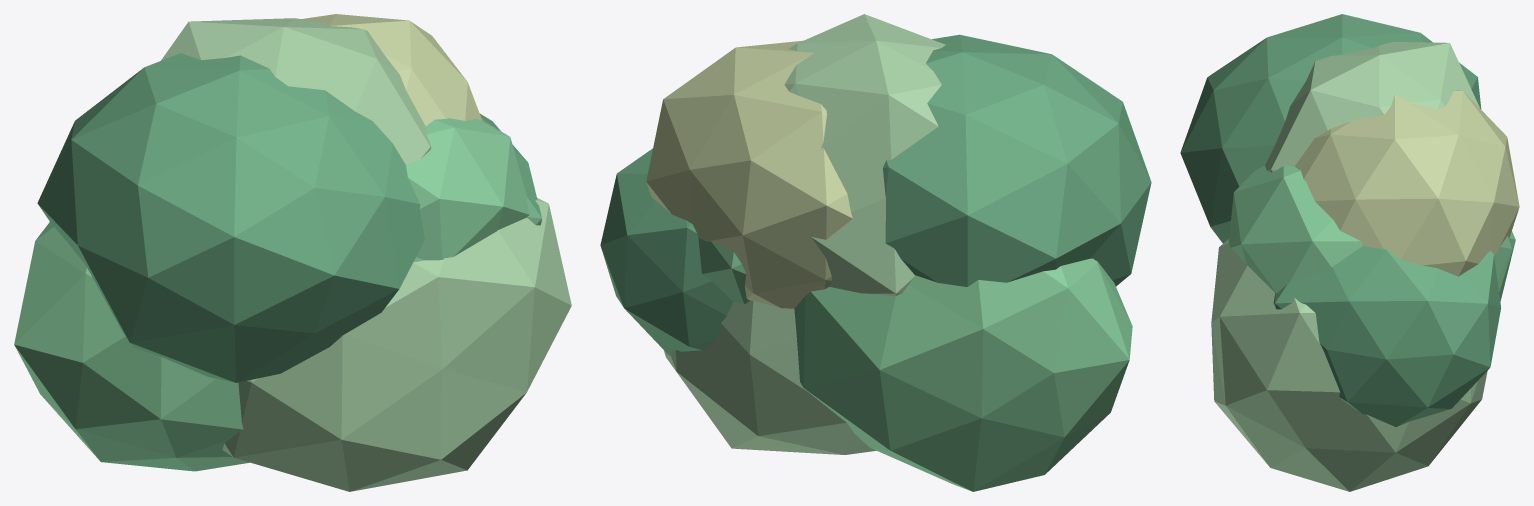
The model's file is bush_wild.glb.
3 renders of one model, left to right at view 1: azimuth 30°, elevation 25°; view 2: azimuth 150°, elevation 25°; view 3: azimuth 270°, elevation 25°, orthographic. The views are drawn at different scales.
Parts seen in each view (by area): view 1: bush_wild_leaf_dark, bush_wild_leaf_light, bush_wild_leaf_mid, bush_wild_leaf_sage; view 2: bush_wild_leaf_dark, bush_wild_leaf_mid, bush_wild_leaf_light, bush_wild_leaf_sage; view 3: bush_wild_leaf_dark, bush_wild_leaf_light, bush_wild_leaf_sage, bush_wild_leaf_mid.
Part boxes in pixels (left/top/right/bottom): bush_wild_leaf_dark: left=37, top=53, right=541, bottom=382; bush_wild_leaf_light: left=161, top=18, right=571, bottom=491; bush_wild_leaf_mid: left=14, top=118, right=529, bottom=471; bush_wild_leaf_sage: left=301, top=14, right=482, bottom=126; bush_wild_leaf_dark: left=600, top=34, right=1151, bottom=355; bush_wild_leaf_mid: left=698, top=238, right=1132, bottom=491; bush_wild_leaf_light: left=664, top=14, right=945, bottom=454; bush_wild_leaf_sage: left=646, top=40, right=852, bottom=308; bush_wild_leaf_dark: left=1180, top=14, right=1500, bottom=426; bush_wild_leaf_light: left=1211, top=42, right=1487, bottom=491; bush_wild_leaf_sage: left=1294, top=90, right=1519, bottom=276; bush_wild_leaf_mid: left=1229, top=165, right=1515, bottom=301.
Bounding box in the file's own units: 1.95 × 1.6 × 1.31.
